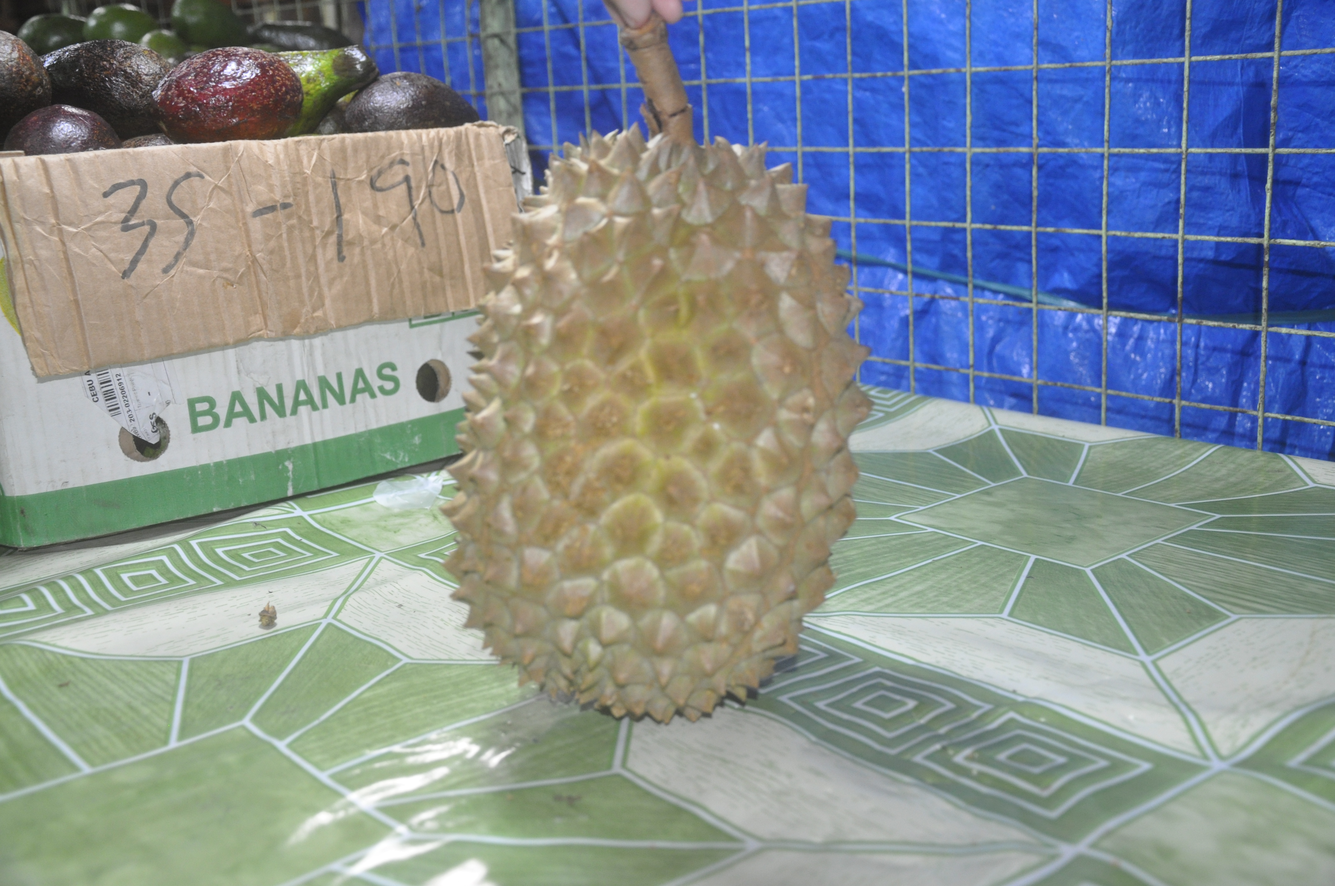mature: (446, 22, 870, 721)
